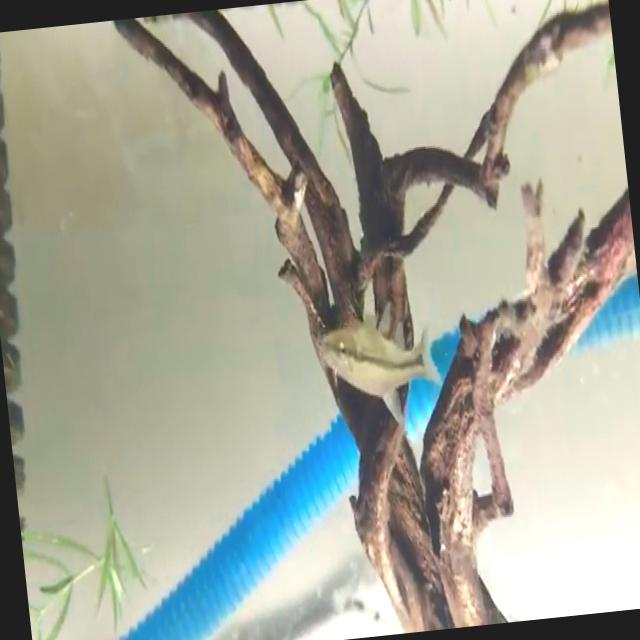Cakil Baligi: (301, 304, 445, 446)
